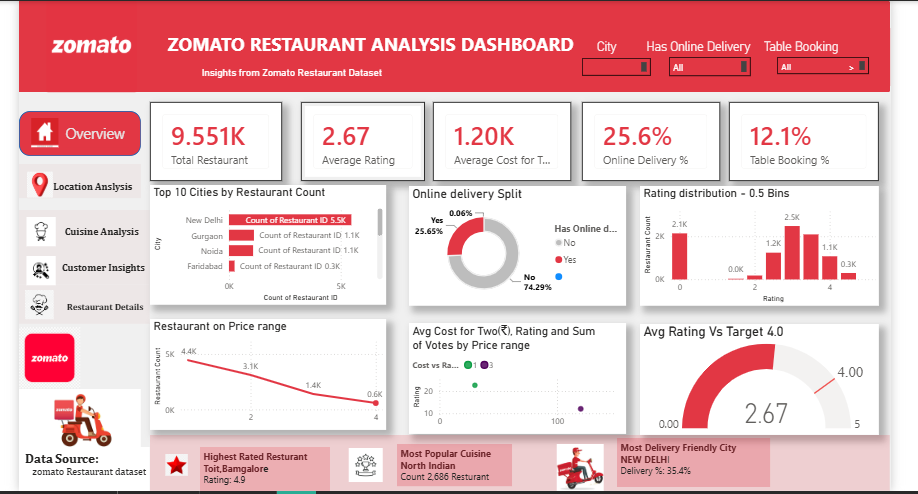

What the dashboard file says about the page in this screenshot:
{"tool":"powerbi","page":{"name":"zomato","canvas":[1280,720],"ordinal":0},"visuals":[{"type":"shape","box":[0,0,1279.8,133.7],"z":0},{"type":"textbox","box":[213.1,39.7,1066.8,83.8],"z":1000},{"type":"shape","box":[0,0,213.1,133.7],"z":2000},{"type":"shape","box":[0,133.7,192.5,586.3],"z":3000},{"type":"image","box":[0,0,213.1,133.7],"z":4000},{"type":"shape","box":[0,161.6,179.3,66.1],"z":5000},{"type":"textbox","box":[63.2,174.9,98.4,39.7],"z":6000},{"type":"textbox","box":[0,307.1,192.5,52.9],"z":7000},{"type":"textbox","box":[0,239.5,179.3,50],"z":8000},{"type":"textbox","box":[955.1,82.3,120.5,27.9],"z":9000},{"type":"textbox","box":[1113.8,82.3,135.2,25],"z":10000},{"type":"textbox","box":[827.3,83.8,101.4,26.4],"z":11000},{"type":"textbox","box":[0,655.3,192.5,64.7],"z":12000},{"type":"textbox","box":[0,360,192.5,57.3],"z":13000},{"type":"textbox","box":[0,417.3,192.5,57.3],"z":14000},{"type":"image","box":[11.8,249.8,38.2,39.7],"z":15000},{"type":"image","box":[0,317.4,64.7,42.6],"z":16000},{"type":"image","box":[2.9,374.7,58.8,42.6],"z":17000},{"type":"image","box":[0,424.7,60.2,42.6],"z":18000},{"type":"image","box":[2.9,171.9,70.5,42.6],"z":19000},{"type":"image","box":[0,548.1,179.3,133.7],"z":20000},{"type":"image","box":[0,467.3,89.6,114.6],"z":21000},{"type":"cardVisual","fields":{"Data":["CountNonNull(zomato.Restaurant ID)"]},"box":[192.5,148.4,194,116.1],"z":22000},{"type":"cardVisual","fields":{"Data":["Avg(zomato.Aggregate rating)"]},"box":[414.4,148.4,182.2,116.1],"z":23000},{"type":"cardVisual","fields":{"Data":["Avg(zomato.Average Cost for two)"]},"box":[608.3,148.4,202.8,116.1],"z":24000},{"type":"cardVisual","fields":{"Data":["zomato.Online Delivery %"]},"box":[827.3,148.4,202.8,116.1],"z":25000},{"type":"cardVisual","fields":{"Data":["zomato.Table Booking %"]},"box":[1043.3,148.4,220.4,116.1],"z":26000},{"type":"clusteredBarChart","title":"Top 10 Cities by Restaurant Count","fields":{"Category":["zomato.City"],"Y":["CountNonNull(zomato.Restaurant ID)"]},"box":[192.5,270.4,346.8,176.3],"z":27000},{"type":"donutChart","title":" Online delivery Split","fields":{"Category":["zomato.Has Online delivery"],"Y":["CountNonNull(zomato.Restaurant ID)"]},"box":[573.1,271.8,318.9,176.3],"z":28000},{"type":"clusteredColumnChart","title":"Rating distribution - 0.5 Bins","fields":{"Y":["CountNonNull(zomato.Restaurant ID)"],"Category":["zomato.Aggregate rating (bins)"]},"box":[912.5,271.8,351.2,176.3],"z":29000},{"type":"lineChart","title":"Restaurant on Price range","fields":{"Category":["zomato.Price range"],"Y":["CountNonNull(zomato.Restaurant ID)"]},"box":[192.5,467.3,346.8,163.1],"z":30000},{"type":"scatterChart","fields":{"X":["Sum(zomato.Average Cost for two)"],"Y":["Sum(zomato.Aggregate rating)"],"Series":["zomato.Price range"],"Size":["Sum(zomato.Votes)"]},"box":[572.8,473.7,319.2,162.9],"z":31000},{"type":"gauge","title":"Avg Rating Vs Target 4.0","fields":{"Y":["Avg(zomato.Aggregate rating)"],"MinValue":["zomato.Max Value"],"MaxValue":["zomato.Max Value1"],"TargetValue":["zomato.Rating Target"]},"box":[912,474,351,163],"z":32000},{"type":"textbox","box":[192.5,637.7,1087.3,82.3],"z":33000},{"type":"image","box":[213.1,665.6,36.7,32.3],"z":34000},{"type":"textbox","box":[266,655.3,191,64.7],"z":35000},{"type":"image","box":[480.5,656.8,58.8,50],"z":36000},{"type":"textbox","box":[555.4,650.9,169,61.7],"z":37000},{"type":"image","box":[736.2,650.9,176.3,69.1],"z":38000},{"type":"textbox","box":[878.7,642.1,224.8,72],"z":39000}]}

Visuals, with their boxes in screenshot pixels (x1, y1, x2, y2):
shape: 17/0/884/91
textbox: 161/27/884/84
shape: 17/0/161/91
shape: 17/91/147/488
image: 17/0/161/91
shape: 17/110/138/154
textbox: 60/119/126/145
textbox: 17/208/147/244
textbox: 17/162/138/196
textbox: 664/56/746/75
textbox: 772/56/863/73
textbox: 577/57/646/75
textbox: 17/444/147/488
textbox: 17/244/147/283
textbox: 17/283/147/322
image: 25/169/51/196
image: 17/215/61/244
image: 19/254/59/283
image: 17/288/58/317
image: 19/117/66/145
image: 17/372/138/462
image: 17/317/77/394
cardVisual - CountNonNull(zomato.Restaurant ID): 147/101/279/179
cardVisual - Avg(zomato.Aggregate rating): 298/101/421/179
cardVisual - Avg(zomato.Average Cost for two): 429/101/566/179
cardVisual - zomato.Online Delivery %: 577/101/715/179
cardVisual - zomato.Table Booking %: 724/101/873/179
"Top 10 Cities by Restaurant Count" clusteredBarChart: 147/183/382/303
" Online delivery Split" donutChart: 405/184/621/304
"Rating distribution - 0.5 Bins" clusteredColumnChart: 635/184/873/304
"Restaurant on Price range" lineChart: 147/317/382/427
scatterChart - Sum(zomato.Average Cost for two) x Sum(zomato.Aggregate rating): 405/321/621/431
"Avg Rating Vs Target 4.0" gauge: 635/321/873/432
textbox: 147/432/884/488
image: 161/451/186/473
textbox: 197/444/326/488
image: 342/445/382/479
textbox: 393/441/508/483
image: 516/441/635/488
textbox: 612/435/765/484
